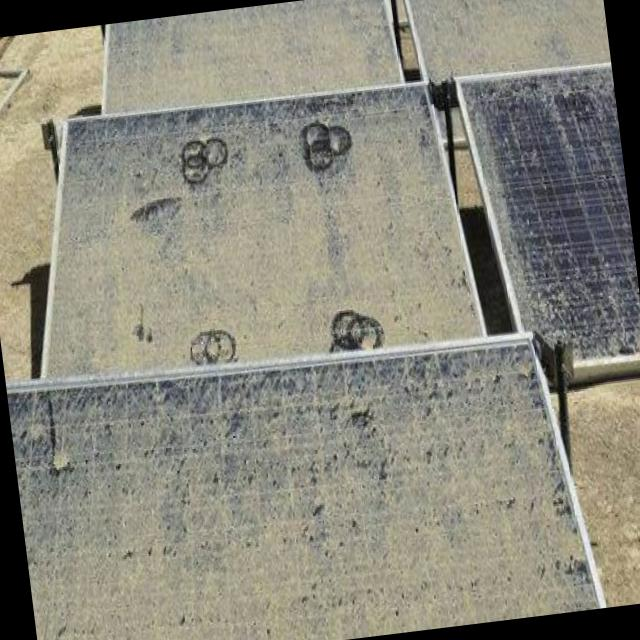faulty: (6, 341, 604, 640), (44, 80, 483, 374), (463, 60, 637, 351), (100, 0, 401, 111), (406, 0, 610, 83)
